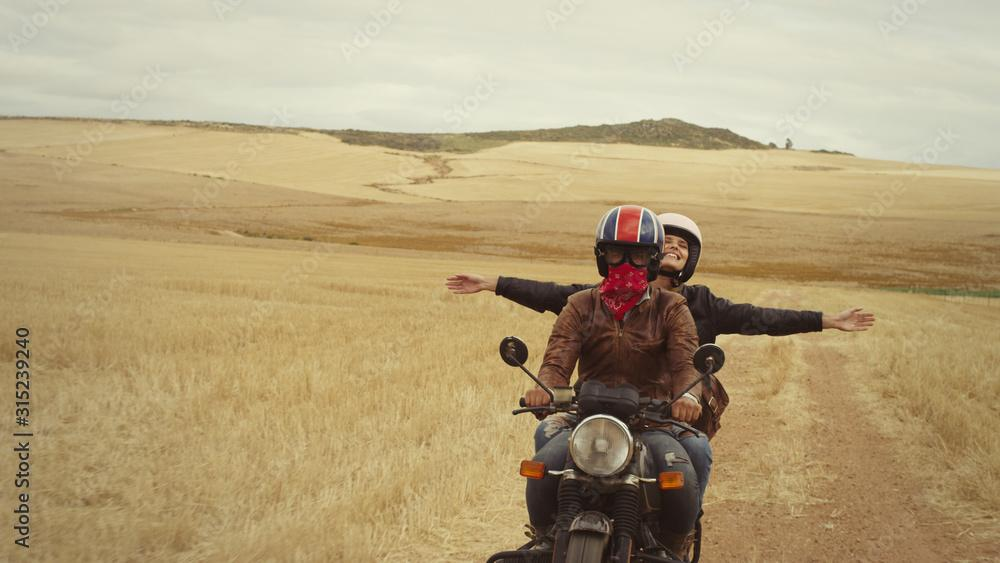helmet: (593, 204, 666, 293), (641, 212, 703, 288)
